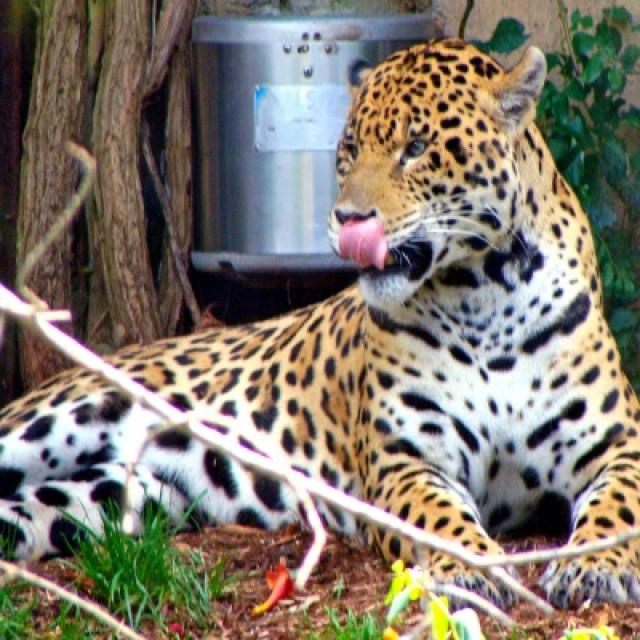Jaguar: (0, 22, 638, 614)
